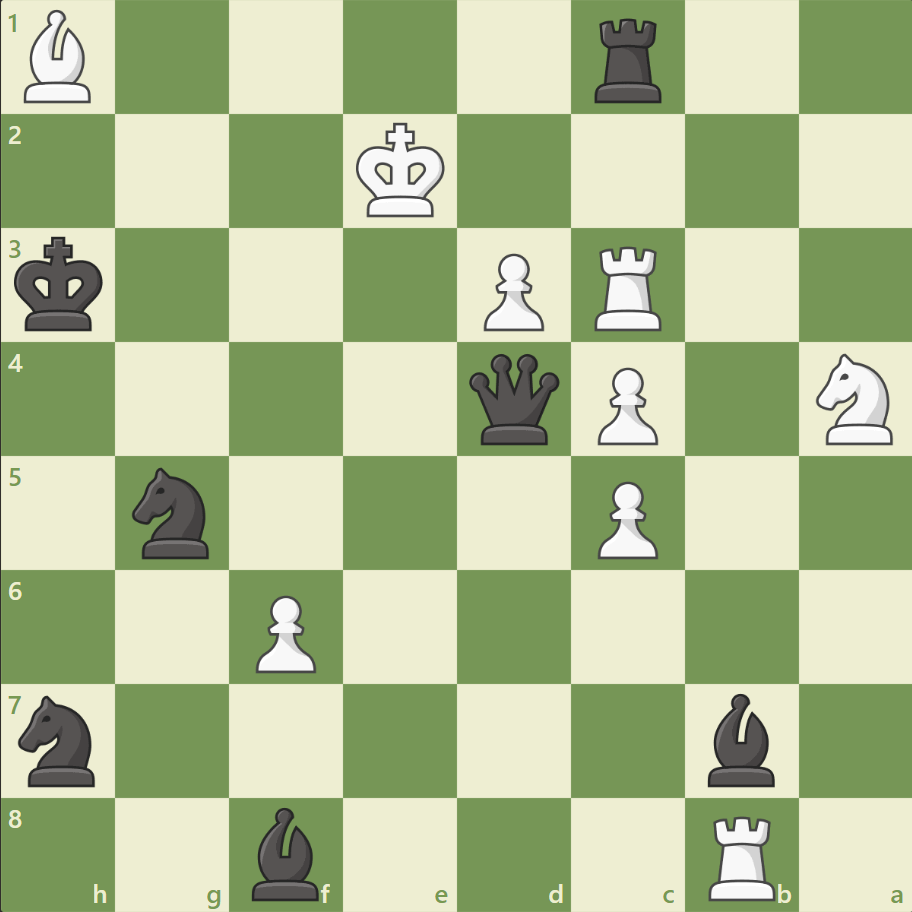B: (17, 6, 101, 109)
K: (351, 117, 451, 225)
N: (806, 348, 903, 450)
P: (247, 586, 322, 677), (474, 246, 549, 337), (588, 473, 662, 564), (588, 359, 662, 450)
R: (700, 806, 783, 904), (587, 239, 670, 336)
b: (244, 801, 328, 904), (698, 687, 782, 790)
k: (11, 231, 111, 339)
n: (124, 461, 222, 564), (11, 688, 108, 791)
q: (464, 349, 563, 449)
r: (587, 12, 670, 109)
